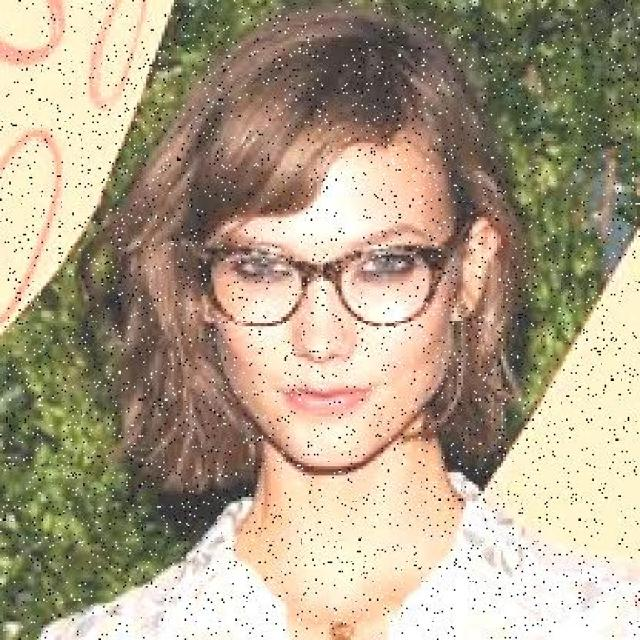glasses: (192, 233, 451, 330)
